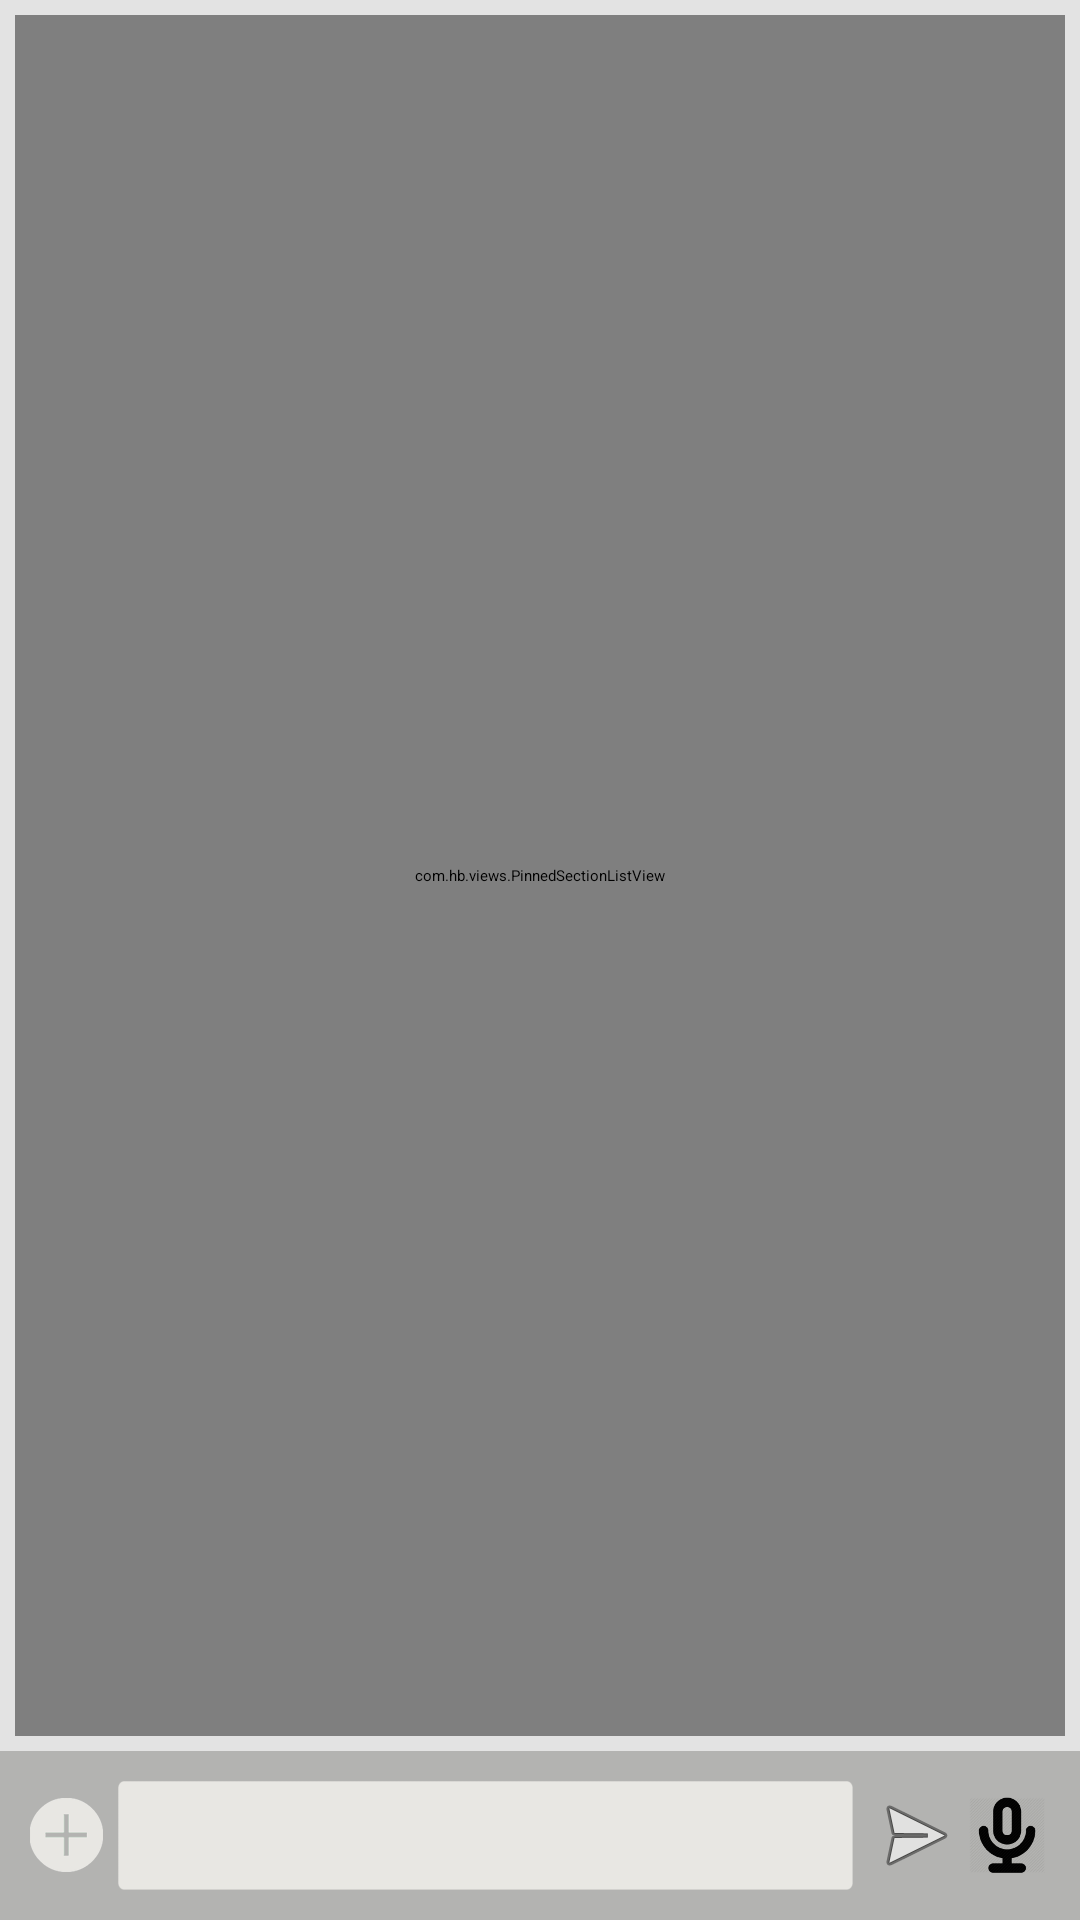

Where icons sit on this 1080×1920 app screen, as (x1, y1, x2, y2):
attachments: (30, 1798, 103, 1872)
audio: (978, 1797, 1036, 1873)
send: (886, 1805, 947, 1866)
